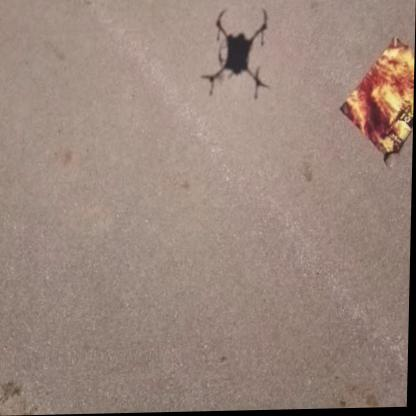fire-poster: (339, 36, 415, 170)
